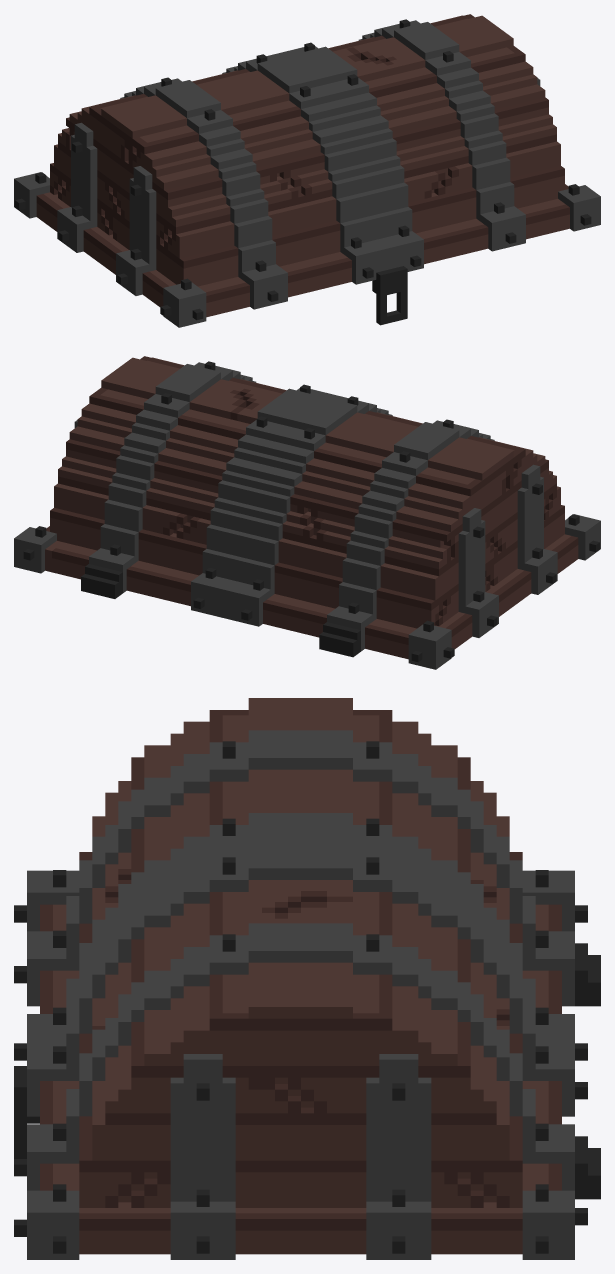
File: Things-4-Chest Head.obj
The picture shows the model from 3 angles, top to bottom: view 1: azimuth 30°, elevation 25°; view 2: azimuth 150°, elevation 25°; view 3: azimuth 270°, elevation 25°; orthographic projection. The views are drawn at different scales.
Parts seen in each view (by area): view 1: Chest Head; view 2: Chest Head; view 3: Chest Head.
Boxes of the visible parts, x1,y1,x2,y2 form: Chest Head: (14,14,600,327); Chest Head: (14,356,600,669); Chest Head: (14,698,600,1259).
Size of the model in its own units: 6.4 by 2.7 by 4.5.
1 material, 1 textured.
